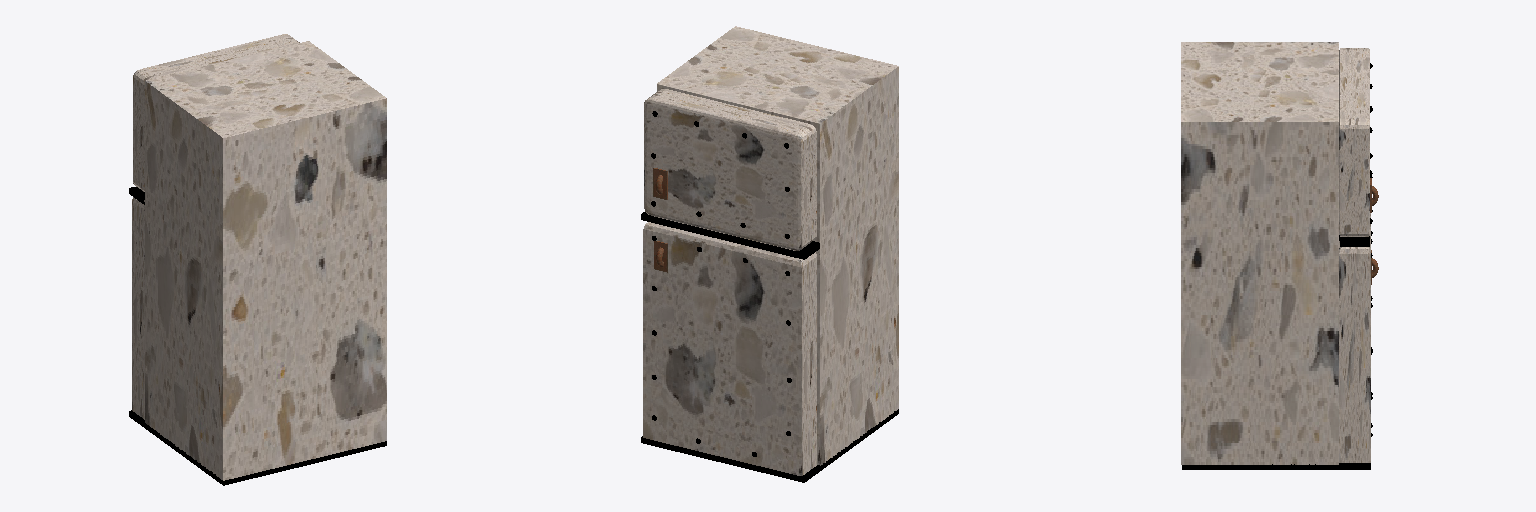
The picture shows the model from 3 angles: view 1: azimuth 30°, elevation 25°; view 2: azimuth 150°, elevation 25°; view 3: azimuth 270°, elevation 25°; orthographic projection.
Visible parts, largest first — view 1: pCube11, pCube10 polySurface21, polySurface7 polySurface33, pCube9; view 2: pCube11, polySurface7 polySurface33, pCube10 polySurface21, pCube9; view 3: pCube11, polySurface7 polySurface33, pCube10 polySurface21, pCube9.
Boxes of the visible parts, <box> form: pCube11: <box>129,41,386,480</box>; pCube10 polySurface21: <box>133,34,299,191</box>; polySurface7 polySurface33: <box>132,197,144,419</box>; pCube9: <box>129,410,386,485</box>; pCube11: <box>641,26,898,465</box>; polySurface7 polySurface33: <box>643,222,816,475</box>; pCube10 polySurface21: <box>644,89,816,250</box>; pCube9: <box>641,409,898,482</box>; pCube11: <box>1181,42,1369,464</box>; polySurface7 polySurface33: <box>1339,213,1370,462</box>; pCube10 polySurface21: <box>1339,48,1369,236</box>; pCube9: <box>1182,463,1370,469</box>.
Size of the model in its own units: 3 by 6.09 by 3.13.
Materials: 3 (2 with a texture image).